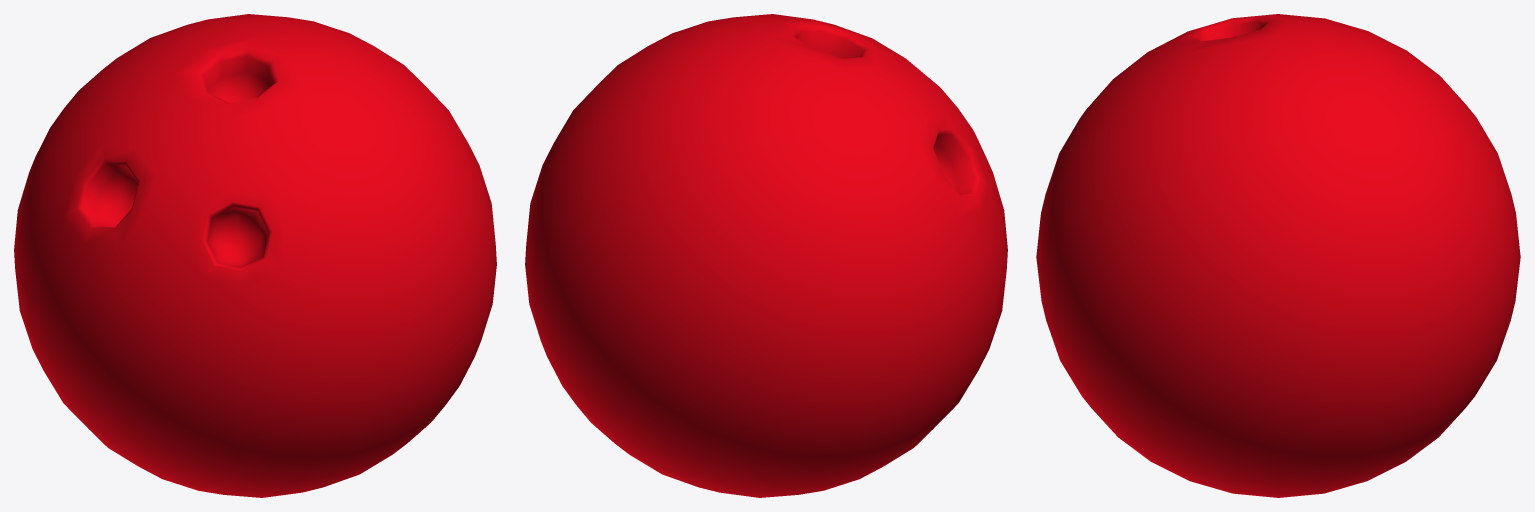
File: VR_Bowling_bowl.glb
3 renders of one model, left to right at view 1: azimuth 30°, elevation 25°; view 2: azimuth 150°, elevation 25°; view 3: azimuth 270°, elevation 25°, orthographic.
Parts seen in each view (by area): view 1: Bowling_ball009; view 2: Bowling_ball009; view 3: Bowling_ball009.
Part boxes in pixels (x1,y1,x2,y2): Bowling_ball009: (14, 14, 496, 497); Bowling_ball009: (525, 14, 1007, 497); Bowling_ball009: (1036, 14, 1520, 497).
Size of the model in its own units: 0.173 by 0.173 by 0.173.
